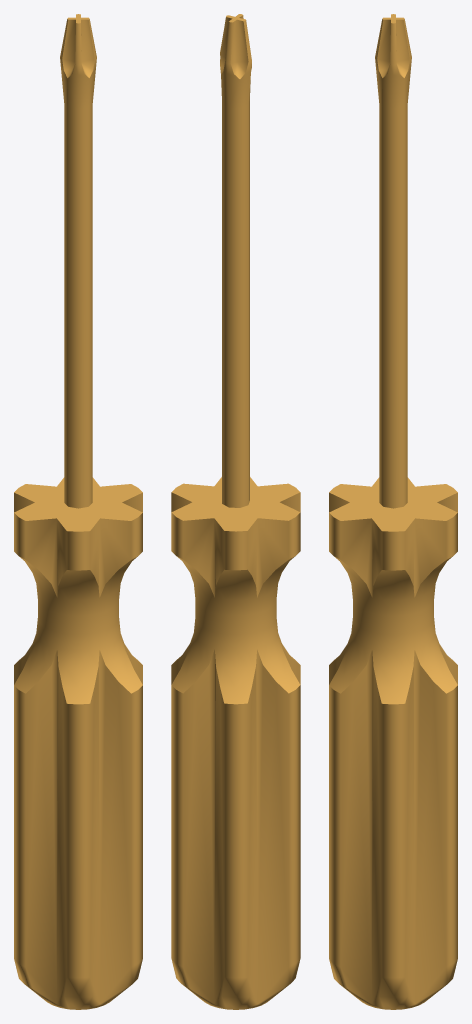
Rendered from screw_LP_substens4.fbx.
The picture shows the model from 3 angles, left to right: view 1: azimuth 90°, elevation 25°; view 2: azimuth 150°, elevation 25°; view 3: azimuth 270°, elevation 25°; orthographic projection.
Visible parts, largest first — view 1: rushka_low, otvertka_low; view 2: rushka_low, otvertka_low; view 3: rushka_low, otvertka_low.
Part boxes in pixels (x1,y1,x2,y2): rushka_low: (14,477,142,1009); otvertka_low: (60,14,96,508); rushka_low: (171,477,300,1009); otvertka_low: (220,14,251,507); rushka_low: (329,477,457,1009); otvertka_low: (375,14,411,508).
Bounding box in the file's own units: 3.01 × 23.49 × 2.81.
